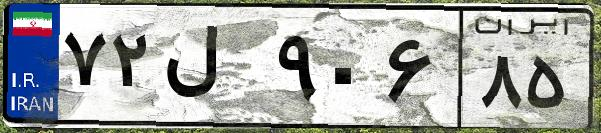0: (330, 28, 385, 110)
2: (110, 28, 158, 98)
5: (525, 38, 570, 115)
6: (385, 28, 445, 110)
7: (57, 26, 110, 100)
8: (475, 38, 525, 113)
9: (270, 28, 330, 110)
ل: (158, 20, 270, 120)
